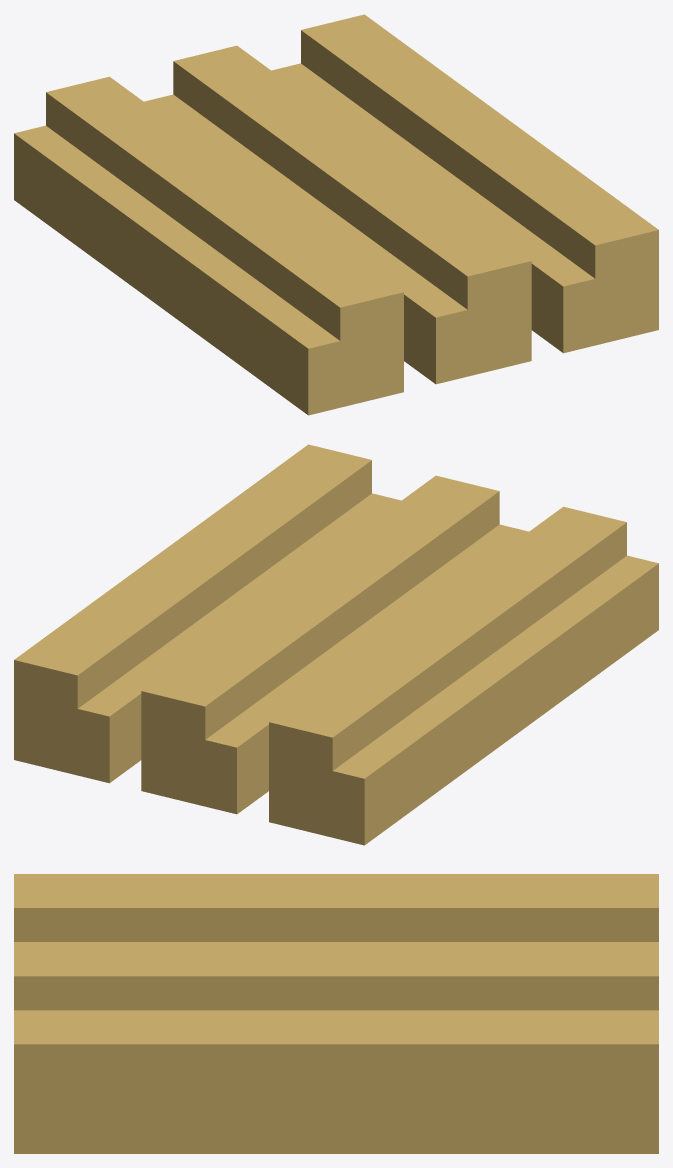
Rendered from food.vox-1-z-tteok.obj.
3 renders of one model, top to bottom at view 1: azimuth 30°, elevation 25°; view 2: azimuth 150°, elevation 25°; view 3: azimuth 270°, elevation 25°, orthographic. The views are drawn at different scales.
Parts seen in each view (by area): view 1: z-tteok; view 2: z-tteok; view 3: z-tteok.
Part boxes in pixels (x1,y1,x2,y2): z-tteok: (14,14,658,415); z-tteok: (14,444,658,845); z-tteok: (14,874,658,1153).
Bounding box in the file's own units: 1.1 × 0.3 × 1.6.
Materials: 1 (1 with a texture image).
